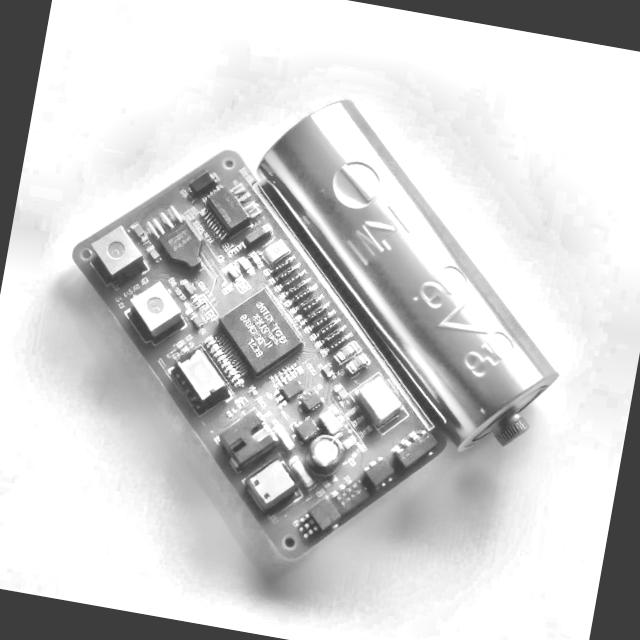Battery: (260, 100, 560, 447)
PCB: (70, 146, 451, 561)
